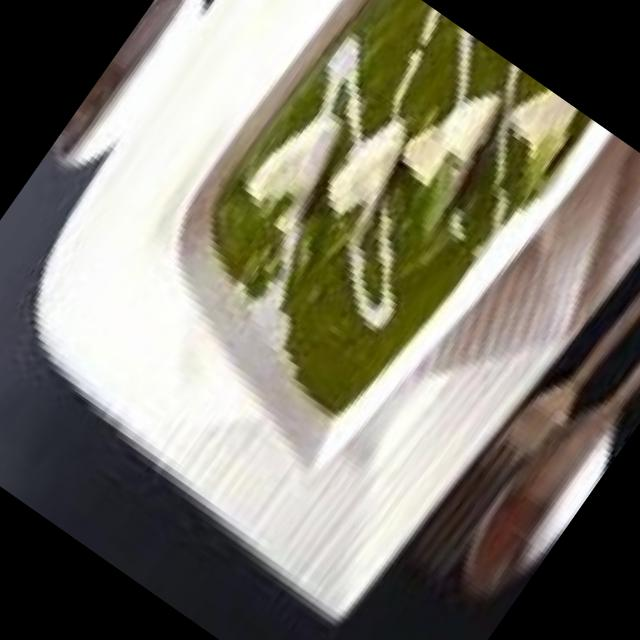palak_paneer: (149, 0, 590, 441)
